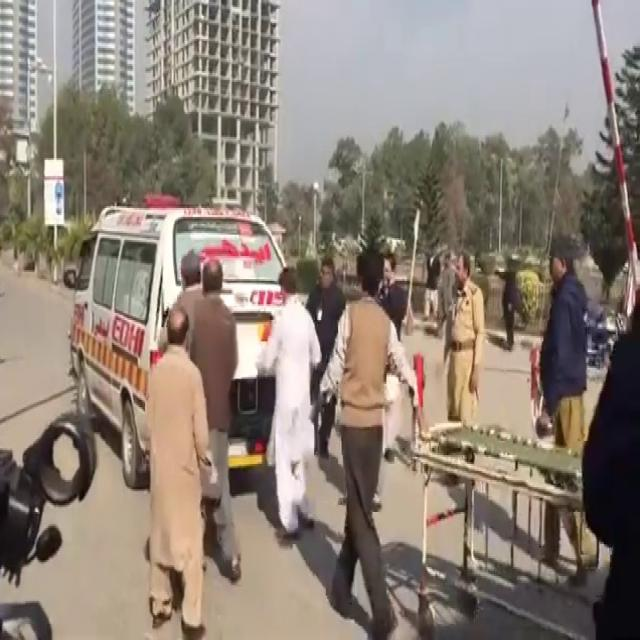ambulance: (55, 206, 302, 465)
